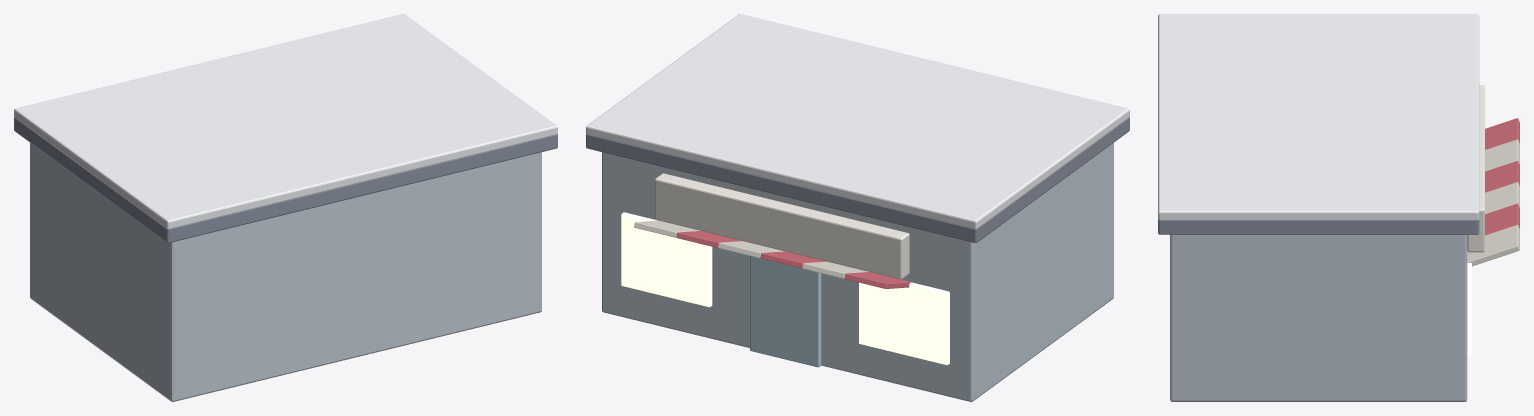
The model's file is store.glb.
The picture shows the model from 3 angles, left to right: view 1: azimuth 30°, elevation 25°; view 2: azimuth 150°, elevation 25°; view 3: azimuth 270°, elevation 25°; orthographic projection. The views are drawn at different scales.
Visible parts, largest first — view 1: walls, roofsnow, roof; view 2: roofsnow, walls, signbox, roof, door, bigwin, bigwin.001, awn0, awn2, awn5, awn1, awn3 (+1 smaller); view 3: roofsnow, walls, roof, signbox, awn5, awn0, awn1, awn2, awn3, awn4, bigwin.001.
Boxes of the visible parts, x1,y1,x2,y2 form: walls: (30,143,541,401); roofsnow: (14,14,557,229); roof: (14,117,557,242); roofsnow: (586,14,1129,229); walls: (602,143,1113,401); signbox: (655,173,909,279); roof: (586,117,1129,242); door: (750,256,821,367); bigwin: (859,282,949,365); bigwin.001: (621,212,712,307); awn0: (844,272,911,288); awn2: (760,251,826,268); awn5: (634,220,700,237); awn1: (802,261,868,278); awn3: (718,241,783,258); roofsnow: (1158,14,1479,220); walls: (1170,234,1467,401); roof: (1158,219,1479,234); signbox: (1467,85,1484,252); awn5: (1467,224,1519,266); awn0: (1485,118,1519,149); awn1: (1485,139,1519,171); awn2: (1485,160,1519,192); awn3: (1485,182,1519,213); awn4: (1485,203,1519,235); bigwin.001: (1467,263,1471,355).
Bounding box in the file's own units: 7.9 × 3.64 × 6.08.
